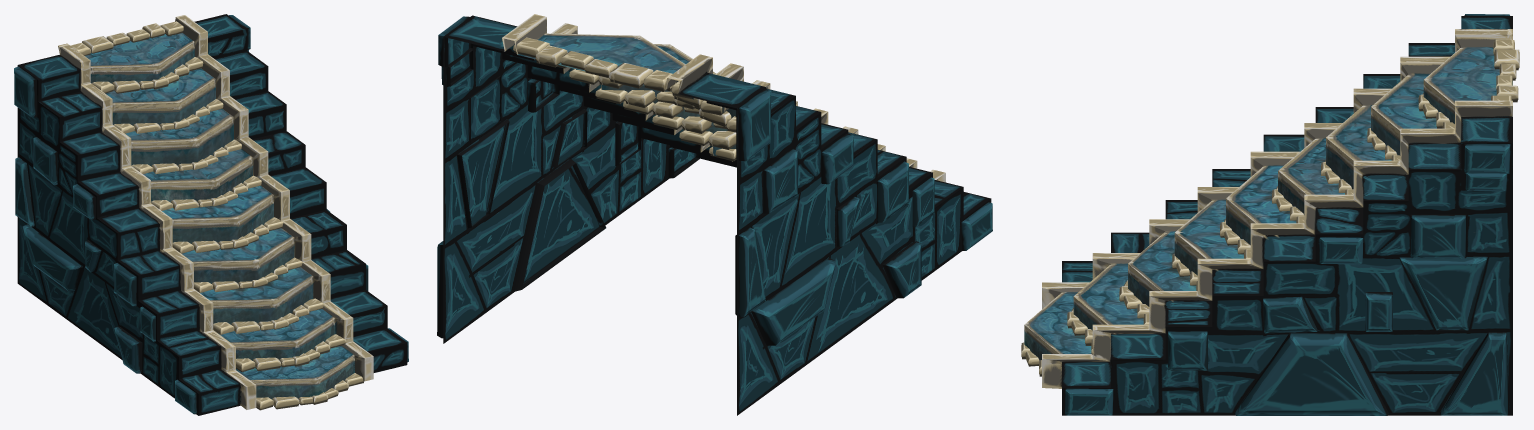
The model's file is updated_new_basic_stairs.fbx.
3 views of the same model, side by side, from view 1: azimuth 30°, elevation 25°; view 2: azimuth 150°, elevation 25°; view 3: azimuth 270°, elevation 25° (orthographic). The views are drawn at different scales.
Visible parts, largest first — view 1: new_basic_stairs; view 2: new_basic_stairs; view 3: new_basic_stairs.
Boxes of the visible parts, left/top/right/bottom form: new_basic_stairs: left=14, top=14, right=408, bottom=415; new_basic_stairs: left=437, top=14, right=992, bottom=415; new_basic_stairs: left=1021, top=14, right=1519, bottom=415.
Size of the model in its own units: 2.15 by 2.1 by 3.32.
Materials: 1 (1 with a texture image).
